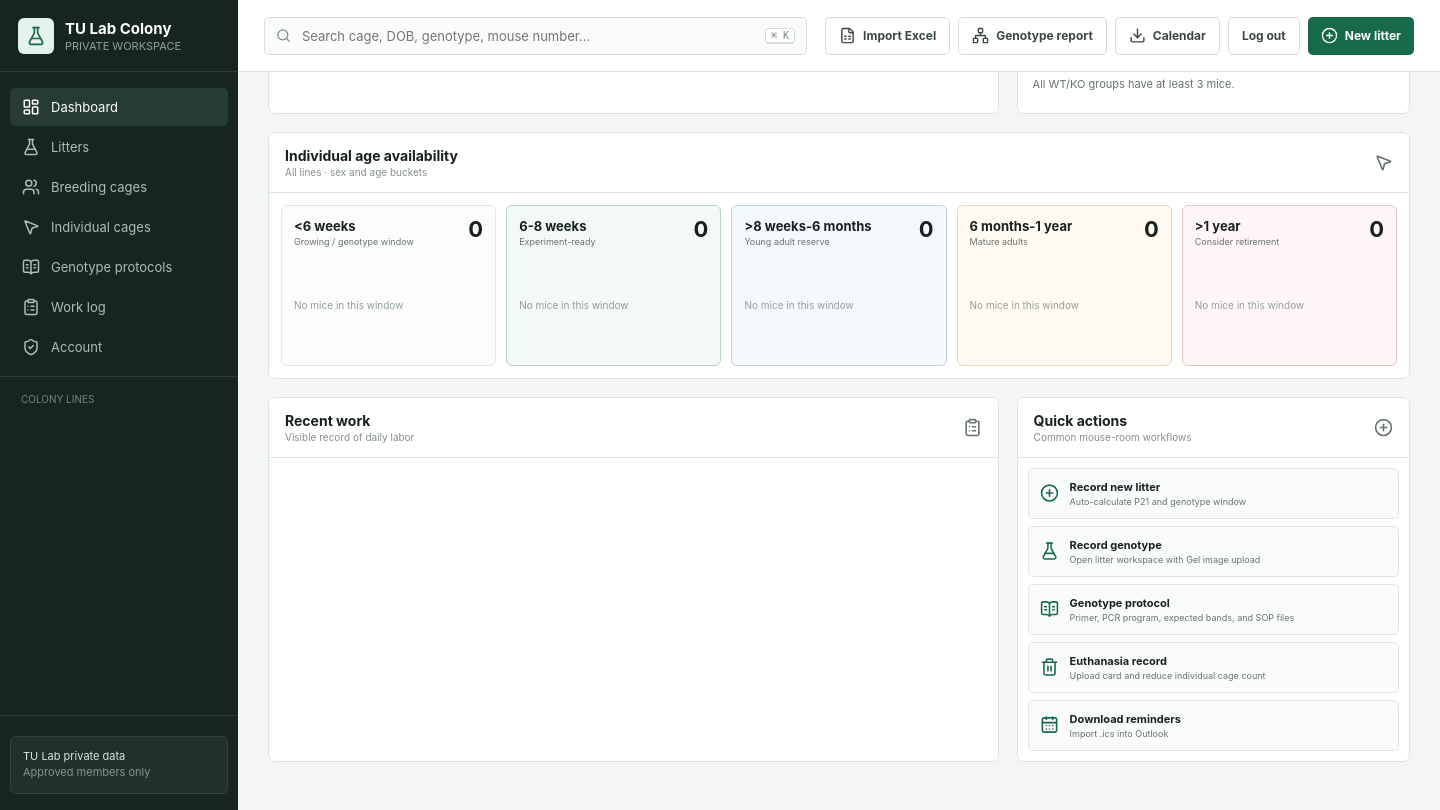
Scenario: colony line filtering › explains genotype workflow when no genotype litter exists yet
(page scrolled)
Click the button "Record genotype" at (1213, 551), box [1028,526,1399,577]
(page scrolled)
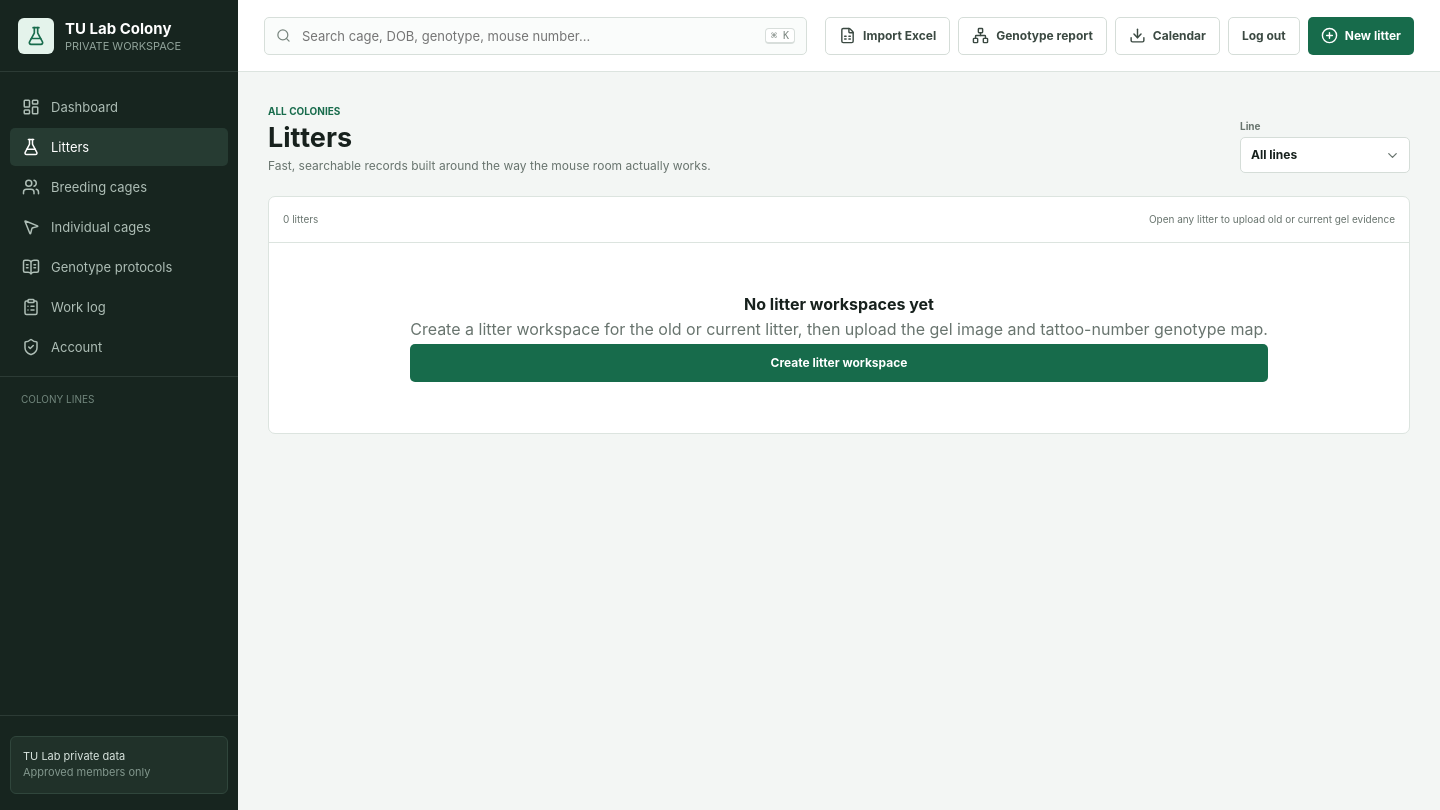
Result: the text "No litter workspaces yet" is shown at [744,294,934,314]
Result: the text "Create a litter workspace for the old or current litter, then upload the gel image and tattoo-number genotype map." is shown at [410,319,1268,339]
Click the button "Create litter workspace" at (839, 363), box [410,344,1268,382]
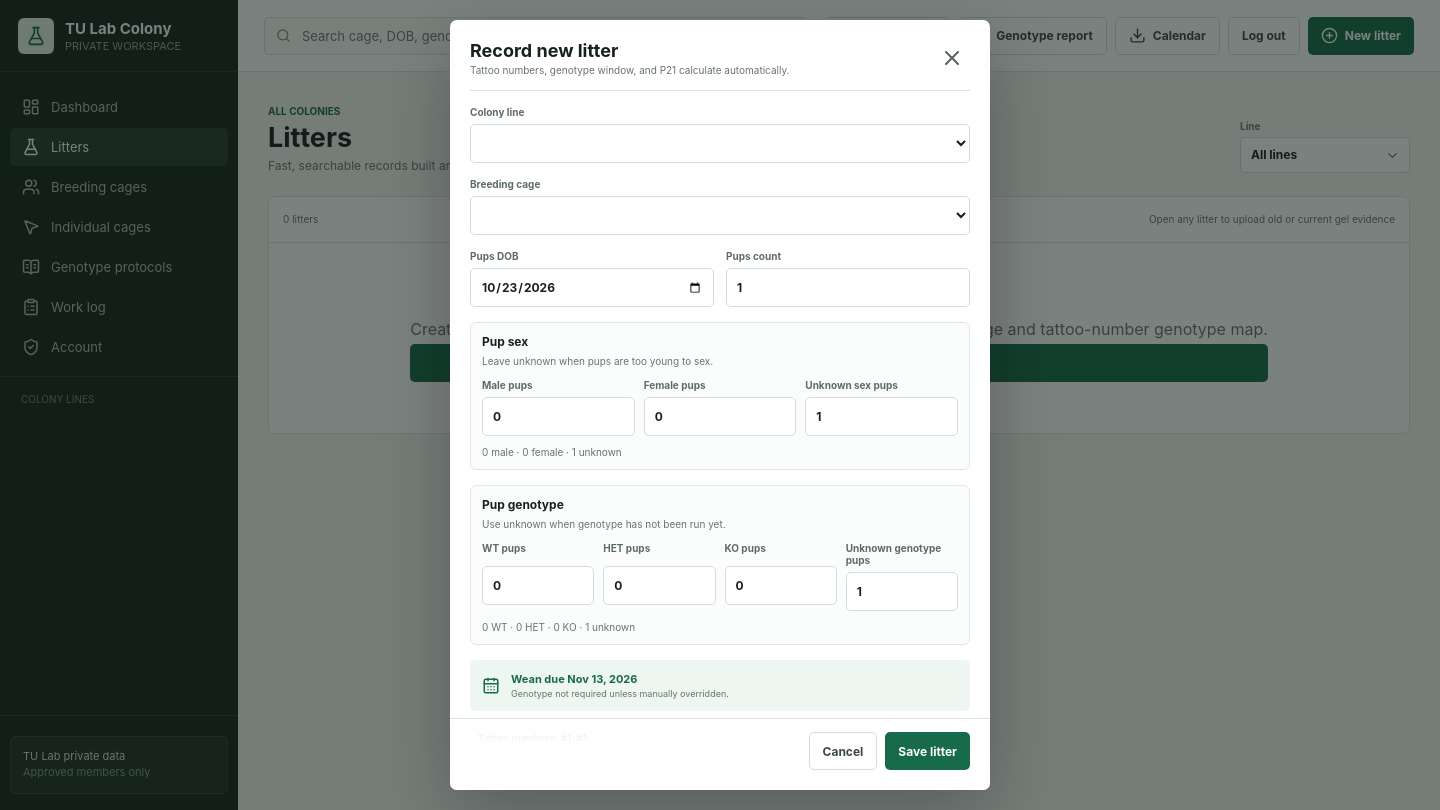
Result: the dialog is shown at [450,20,990,790]
